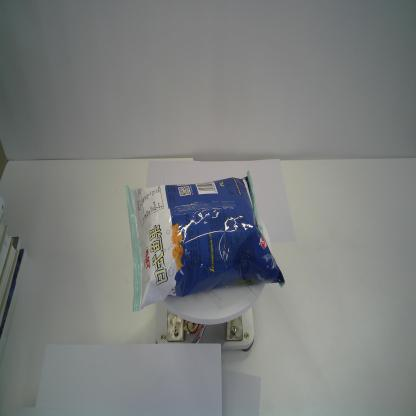Puffed Food: (125, 170, 285, 313)
